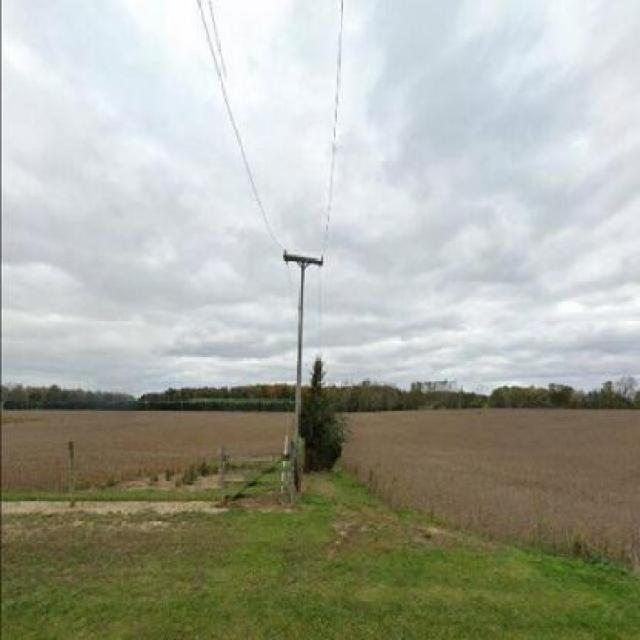pole: (274, 237, 321, 448)
